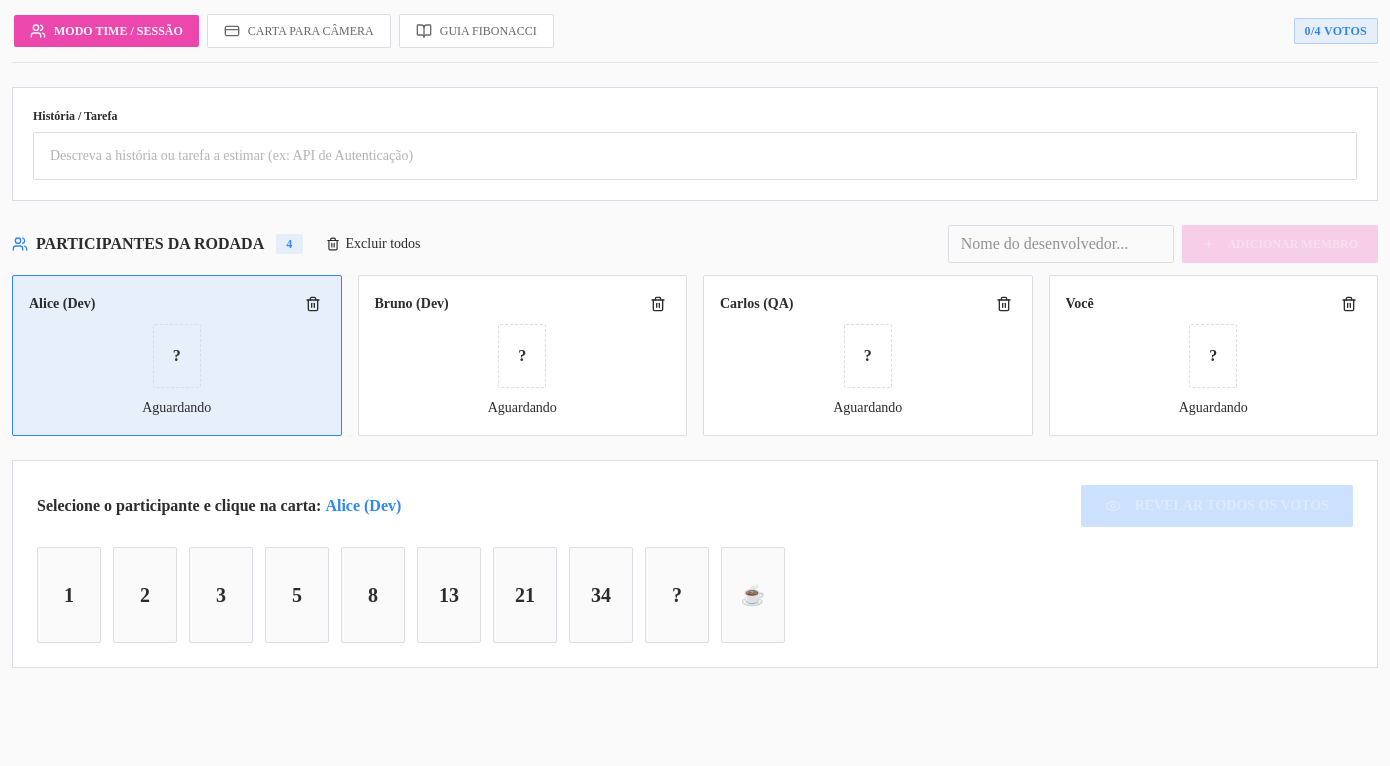
Scenario: Agile Tools Integration Tests › PlanningPokerClient › detects divergence when estimates differ and shows debate alert
The image size is (1390, 766).
Note: Vote 2 for Alice
Click the button "2" at [145, 595], box [113,547,177,643]
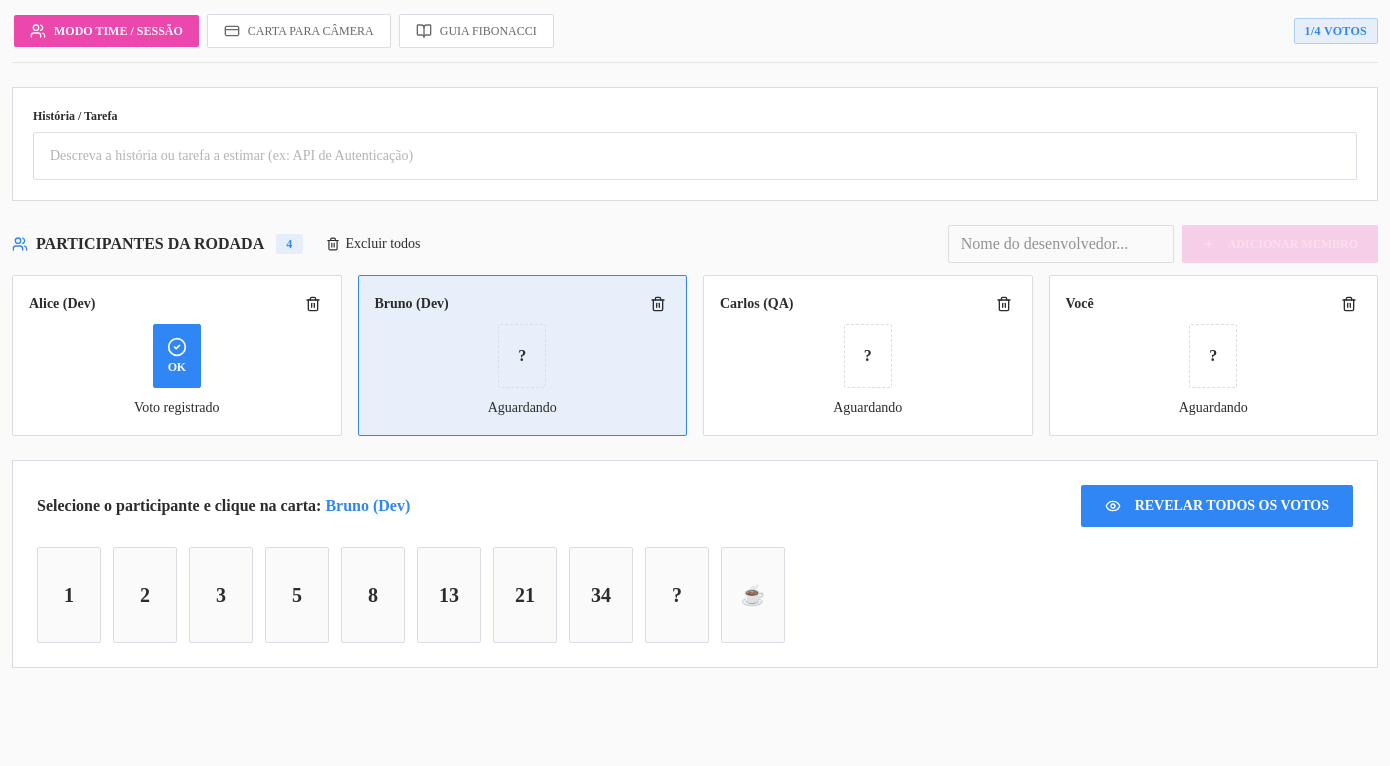
Note: Now Bruno is active: vote 8
Click the button "8" at [373, 595], box [341,547,405,643]
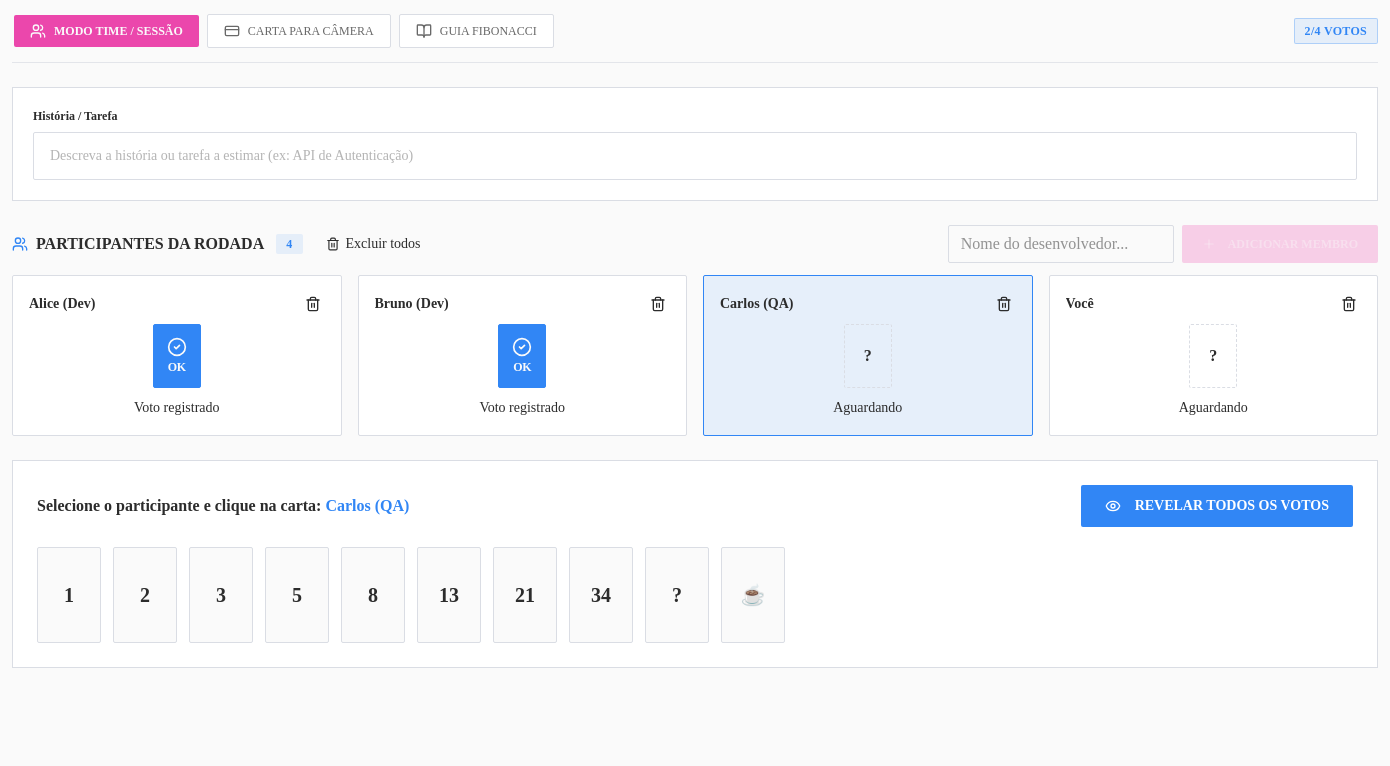
Note: Reveal votes
Click the button "Revelar Todos os Votos" at [1217, 506], box [1081,485,1353,527]
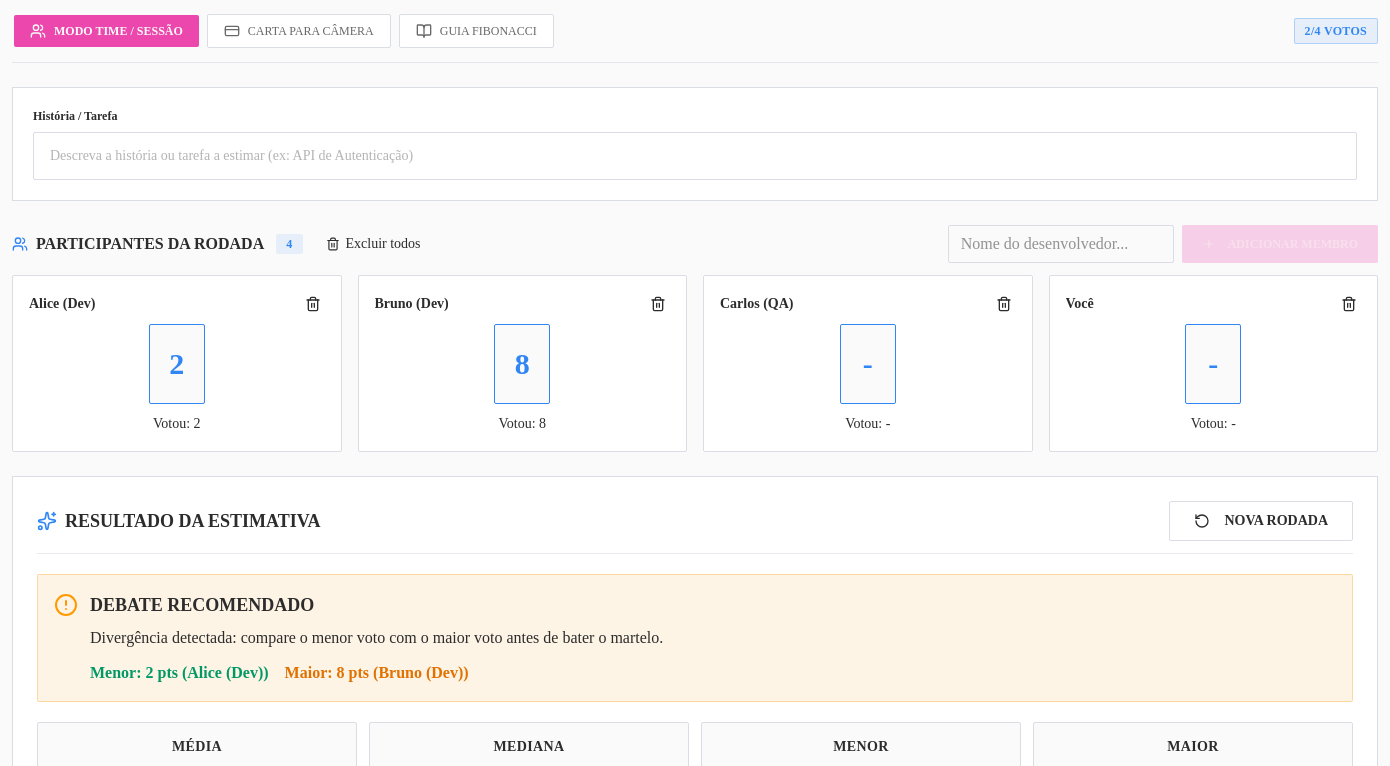
Expected: the heading "Debate Recomendado" is shown, [90,595,314,615]
